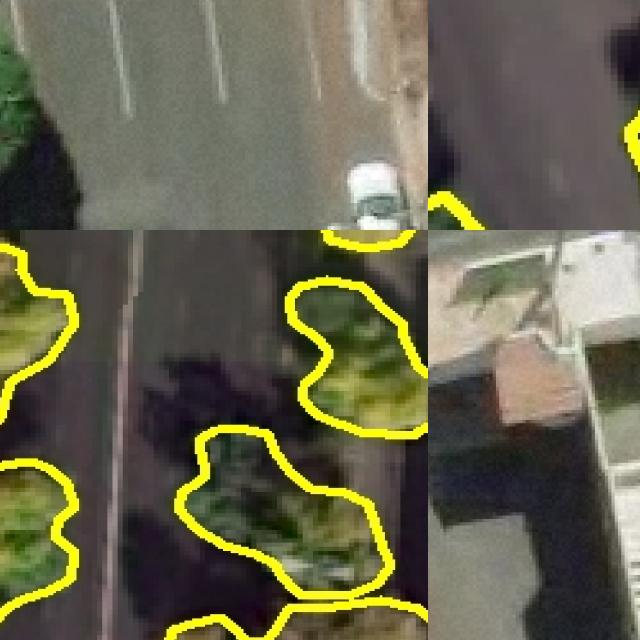trees: (167, 428, 429, 640), (288, 278, 429, 436), (1, 245, 75, 419), (1, 40, 75, 204), (1, 461, 75, 617), (429, 195, 482, 231)
